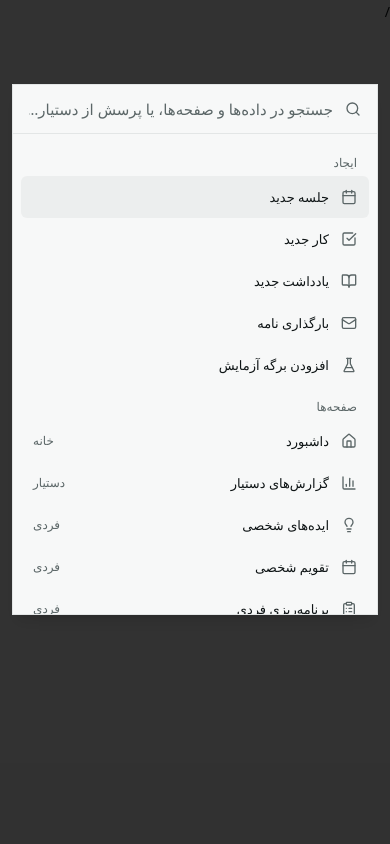
Scenario: Command palette › shows more of one type on request
In the dropdown with placeholder "جستجو در داده‌ها و صفحه‌ها، یا پرسش از دستیار…": (181, 109) 29,85 -> 333,133, type "کلاته"
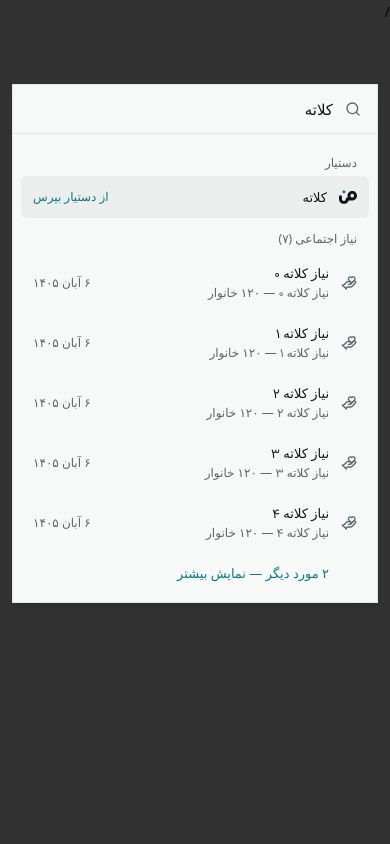
Click the option "۲ مورد دیگر — نمایش بیشتر": (253, 573) 177,564 -> 329,582
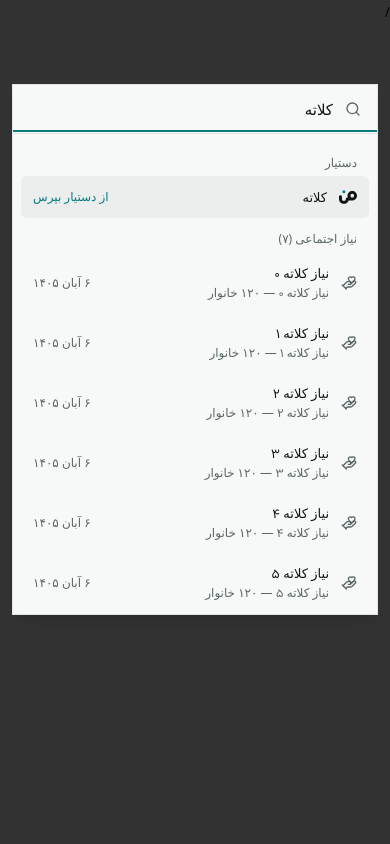
Now the option "مورد دیگر" is gone
